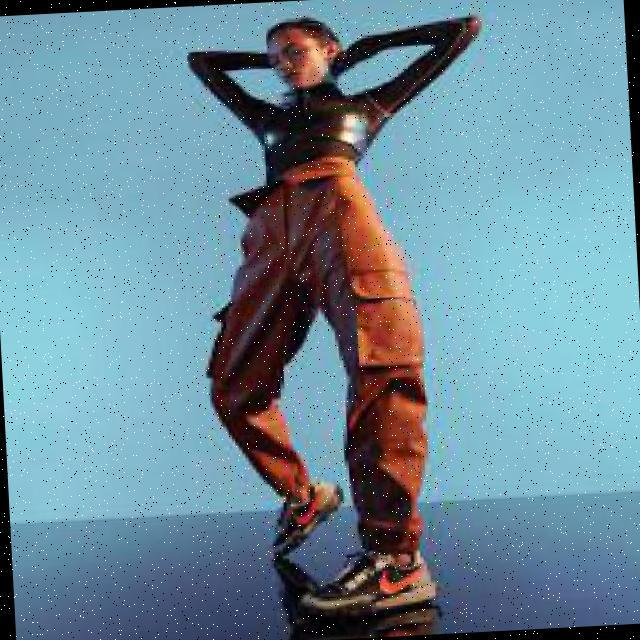Nike: (283, 487, 323, 527), (373, 562, 422, 592)
